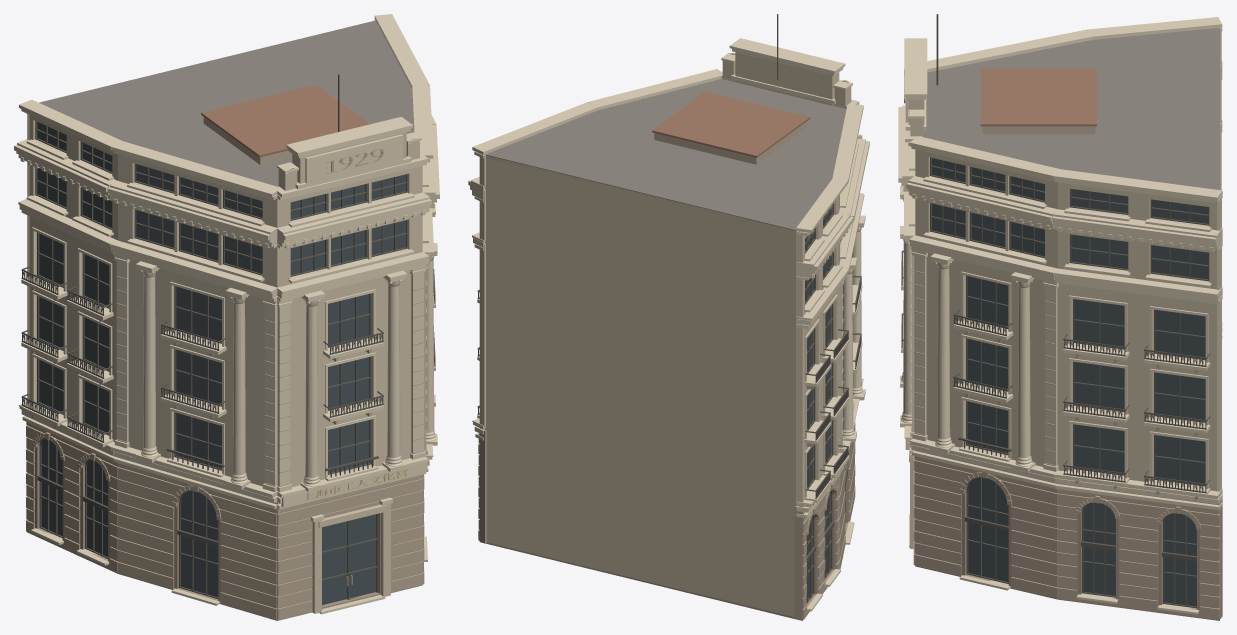
File: huangpu-oriental-hotel-web.glb
3 views of the same model, side by side, from view 1: azimuth 30°, elevation 25°; view 2: azimuth 150°, elevation 25°; view 3: azimuth 270°, elevation 25° (orthographic). The views are drawn at different scales.
Parts seen in each view (by area): view 1: 东方饭店旧址（上海市工人文化宫西端主楼）; view 2: 东方饭店旧址（上海市工人文化宫西端主楼）; view 3: 东方饭店旧址（上海市工人文化宫西端主楼）.
Boxes of the visible parts, box(x1,y1,x2,y2) form: 东方饭店旧址（上海市工人文化宫西端主楼）: box(14, 14, 439, 620); 东方饭店旧址（上海市工人文化宫西端主楼）: box(468, 14, 869, 620); 东方饭店旧址（上海市工人文化宫西端主楼）: box(898, 14, 1222, 620).
Size of the model in its own units: 27.47 by 35.67 by 20.25.
